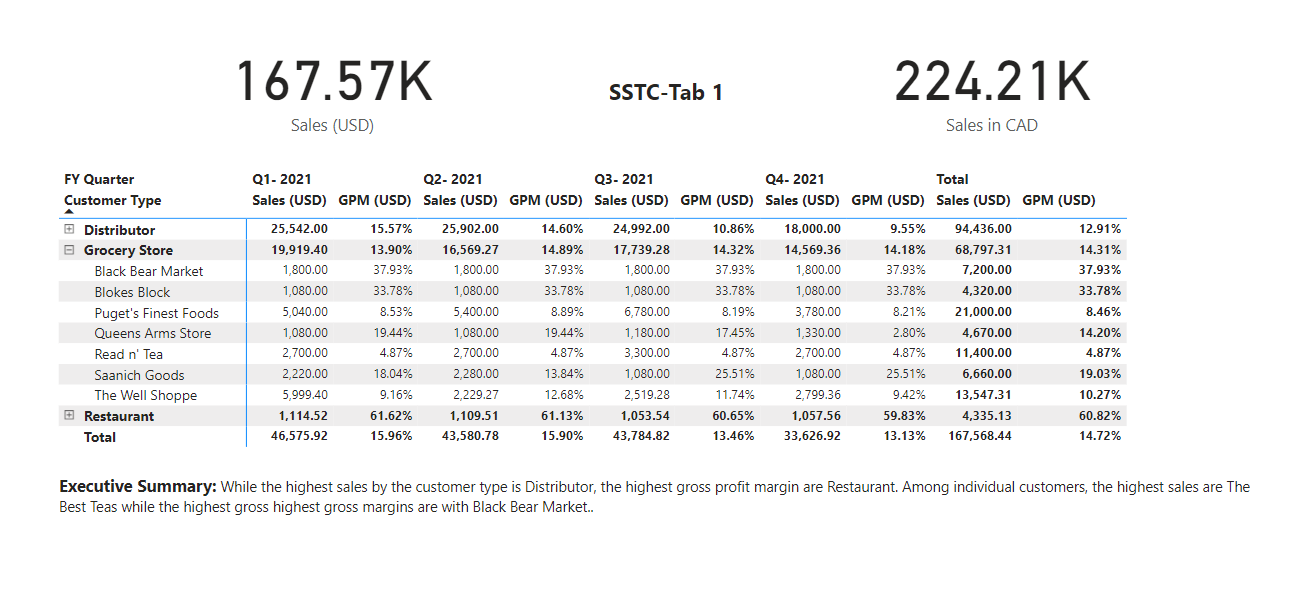

The page's visual inventory and layout, read from the dashboard file:
{"tool":"powerbi","page":{"name":"Sales and GPM","canvas":[1280,720],"ordinal":0},"visuals":[{"type":"actionButton","box":[0,0,100,40],"z":0},{"type":"card","fields":{"Values":["Monthly Sales.Sales in USD"]},"box":[209.8,39.8,241.3,179.6],"z":1000},{"type":"card","fields":{"Values":["Monthly Sales.Sales in CAD"]},"box":[808.9,39.8,315.3,179.6],"z":2000},{"type":"pivotTable","fields":{"Rows":["Customer List.CustType","Customer List.Customer"],"Columns":["Date.Qtr-FY"],"Values":["Monthly Sales.Sales in USD","Monthly Sales.Gross profit margin in USD %"]},"box":[61.5,205,1218.1,295.5],"z":3000},{"type":"textbox","box":[61.5,500.5,1169.8,98.9],"z":4000},{"type":"textbox","box":[592.3,116.5,130.2,53.5],"z":5000}]}

Visuals, with their boxes on the page's 1280x720 design canvas (x1, y1, x2, y2). These are canvas units, not pixel positions in the 1297x598 screenshot, which may show the page scaled, cropped or inside an application window:
actionButton: select_region(0, 0, 100, 40)
card - Monthly Sales.Sales in USD: select_region(210, 40, 451, 219)
card - Monthly Sales.Sales in CAD: select_region(809, 40, 1124, 219)
pivotTable - Customer List.CustType x Customer List.Customer: select_region(62, 205, 1280, 500)
textbox: select_region(62, 500, 1231, 599)
textbox: select_region(592, 116, 722, 170)
